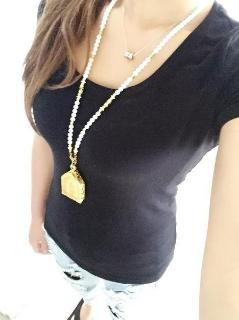short sleeve top: (32, 0, 239, 284)
trousers: (42, 223, 175, 319)
